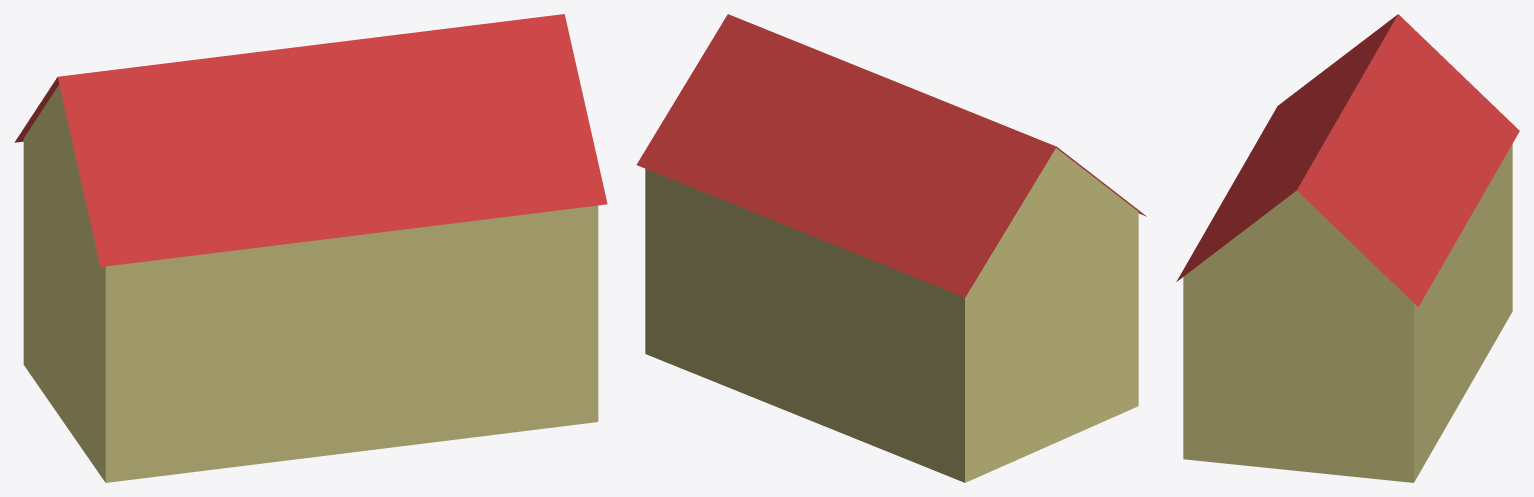
The picture shows the model from 3 angles, left to right: view 1: azimuth 30°, elevation 25°; view 2: azimuth 150°, elevation 25°; view 3: azimuth 270°, elevation 25°; orthographic projection. The views are drawn at different scales.
Bounding box in the file's own units: 19.61 × 14.15 × 12.86.
